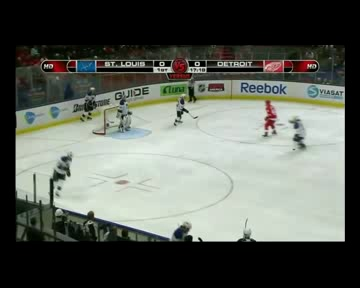normal: (168, 89, 202, 135), (284, 112, 315, 162), (257, 96, 284, 143)
